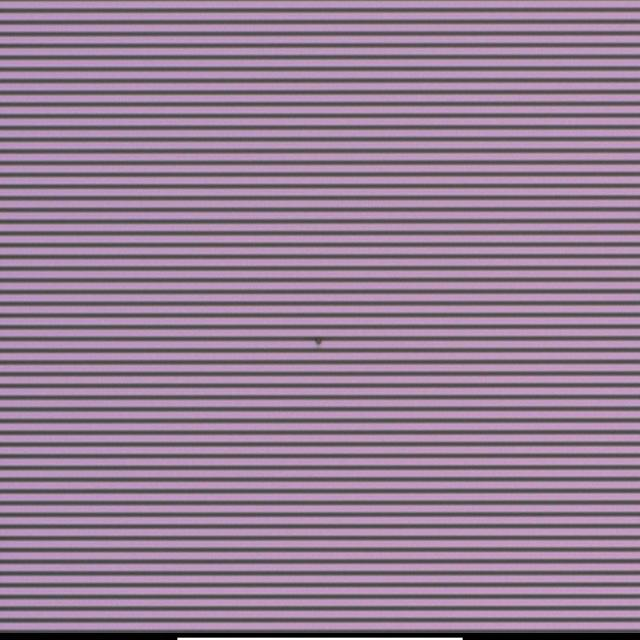03_intrusion: (307, 325, 328, 359)
